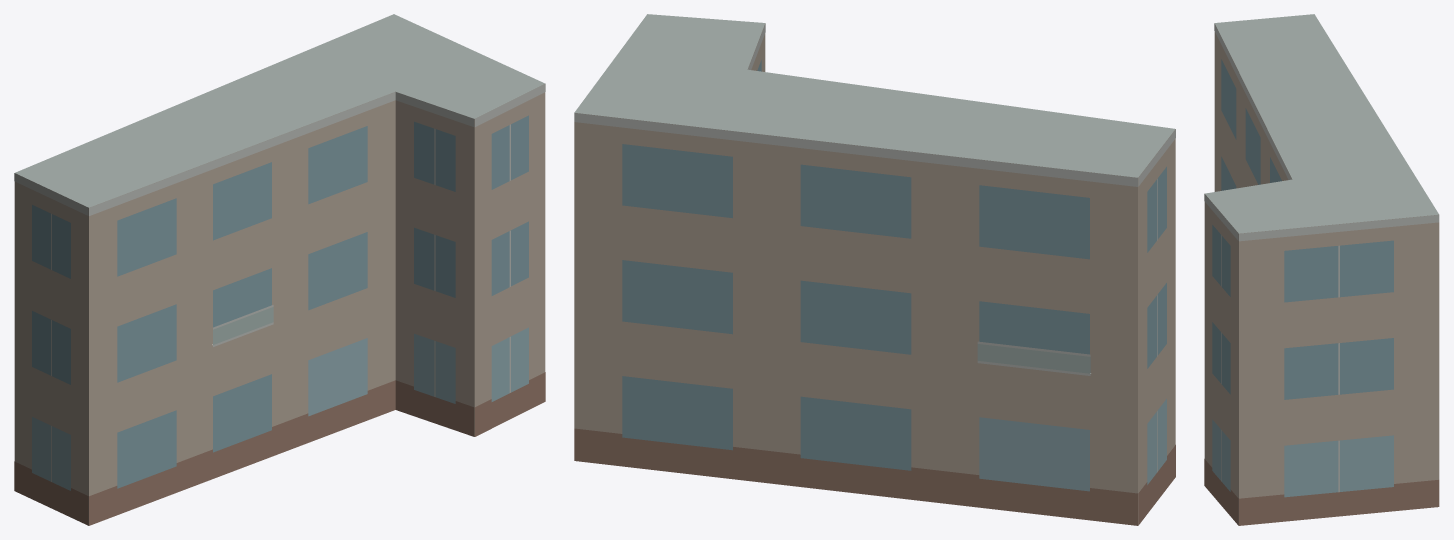
Rendered from survey-upis-32652030.glb.
3 views of the same model, side by side, from view 1: azimuth 30°, elevation 25°; view 2: azimuth 150°, elevation 25°; view 3: azimuth 270°, elevation 25° (orthographic). The views are drawn at different scales.
Visible parts, largest first — view 1: survey-upis-32652030.tmp; view 2: survey-upis-32652030.tmp; view 3: survey-upis-32652030.tmp.
Boxes of the visible parts, <box> form: survey-upis-32652030.tmp: <box>14,14,545,525</box>; survey-upis-32652030.tmp: <box>574,14,1175,525</box>; survey-upis-32652030.tmp: <box>1204,14,1439,525</box>.
Size of the model in its own units: 14.75 by 9.15 by 6.67.
